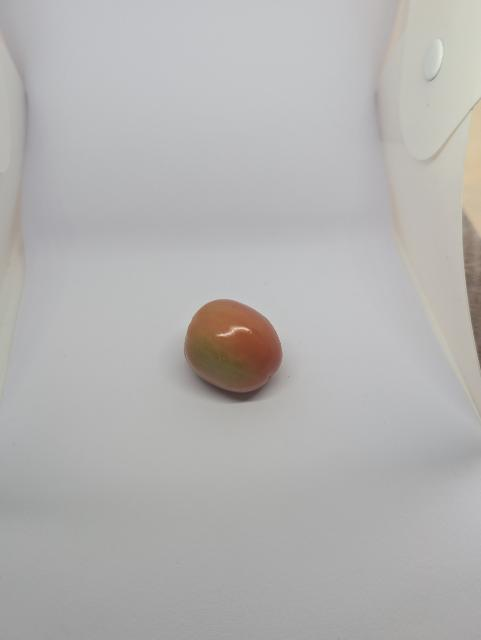turning: (175, 290, 294, 396)
